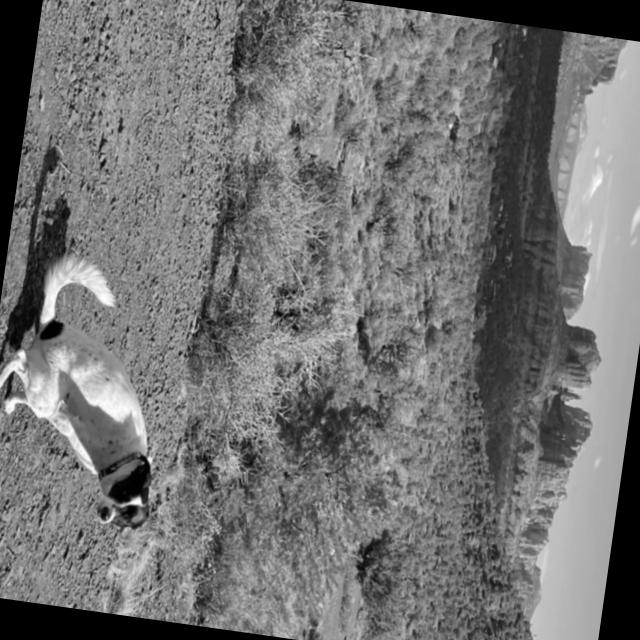squatting: (0, 241, 199, 545)
